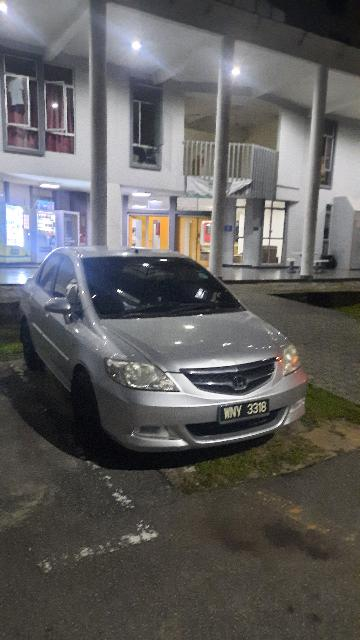License_Plate: (219, 395, 272, 424)
car: (21, 246, 309, 450)
